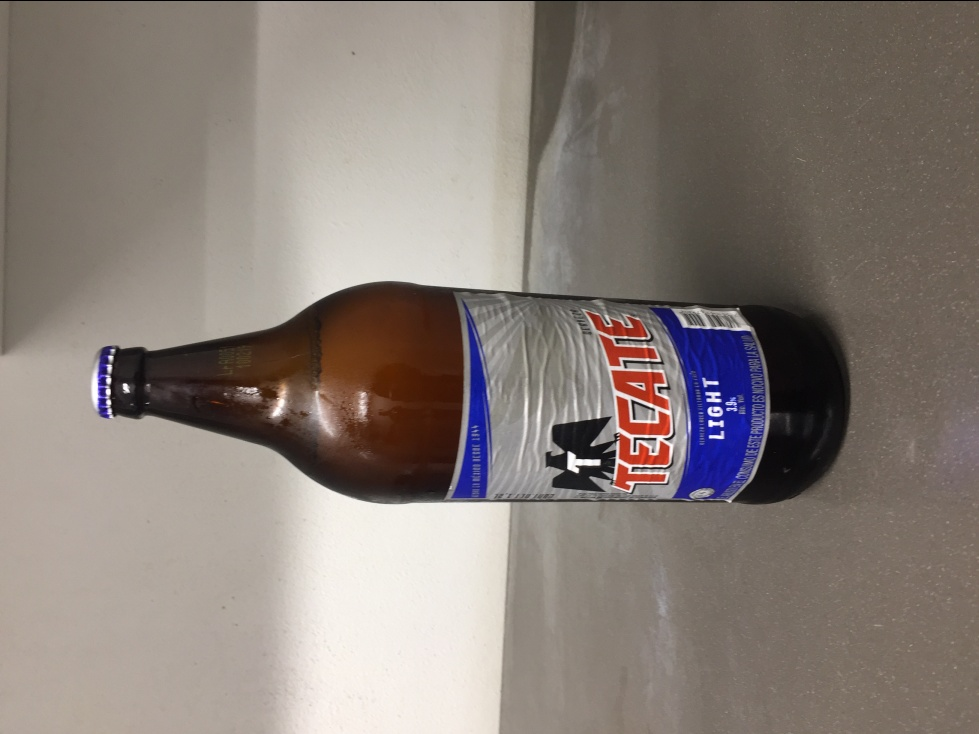tecateC: (87, 280, 851, 502)
